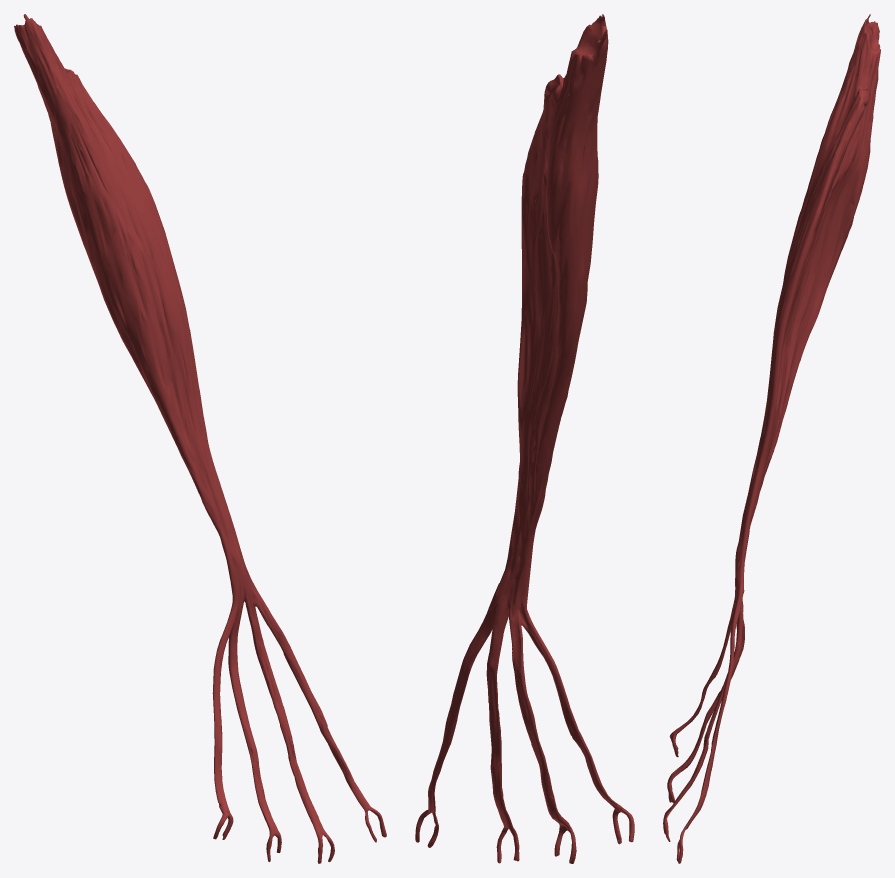
File: humero-ulnar-head-of-flexor-digitorum-superficialis-l.glb
3 views of the same model, side by side, from view 1: azimuth 30°, elevation 25°; view 2: azimuth 150°, elevation 25°; view 3: azimuth 270°, elevation 25° (orthographic). The views are drawn at different scales.
Visible parts, largest first — view 1: Humero-ulnar head of flexor digitorum superficialis.l; view 2: Humero-ulnar head of flexor digitorum superficialis.l; view 3: Humero-ulnar head of flexor digitorum superficialis.l.
Boxes of the visible parts, <box> form: Humero-ulnar head of flexor digitorum superficialis.l: <box>14,14,386,863</box>; Humero-ulnar head of flexor digitorum superficialis.l: <box>415,14,634,863</box>; Humero-ulnar head of flexor digitorum superficialis.l: <box>663,14,880,863</box>.
Bounding box in the file's own units: 0.132 × 0.3897 × 0.1037.
